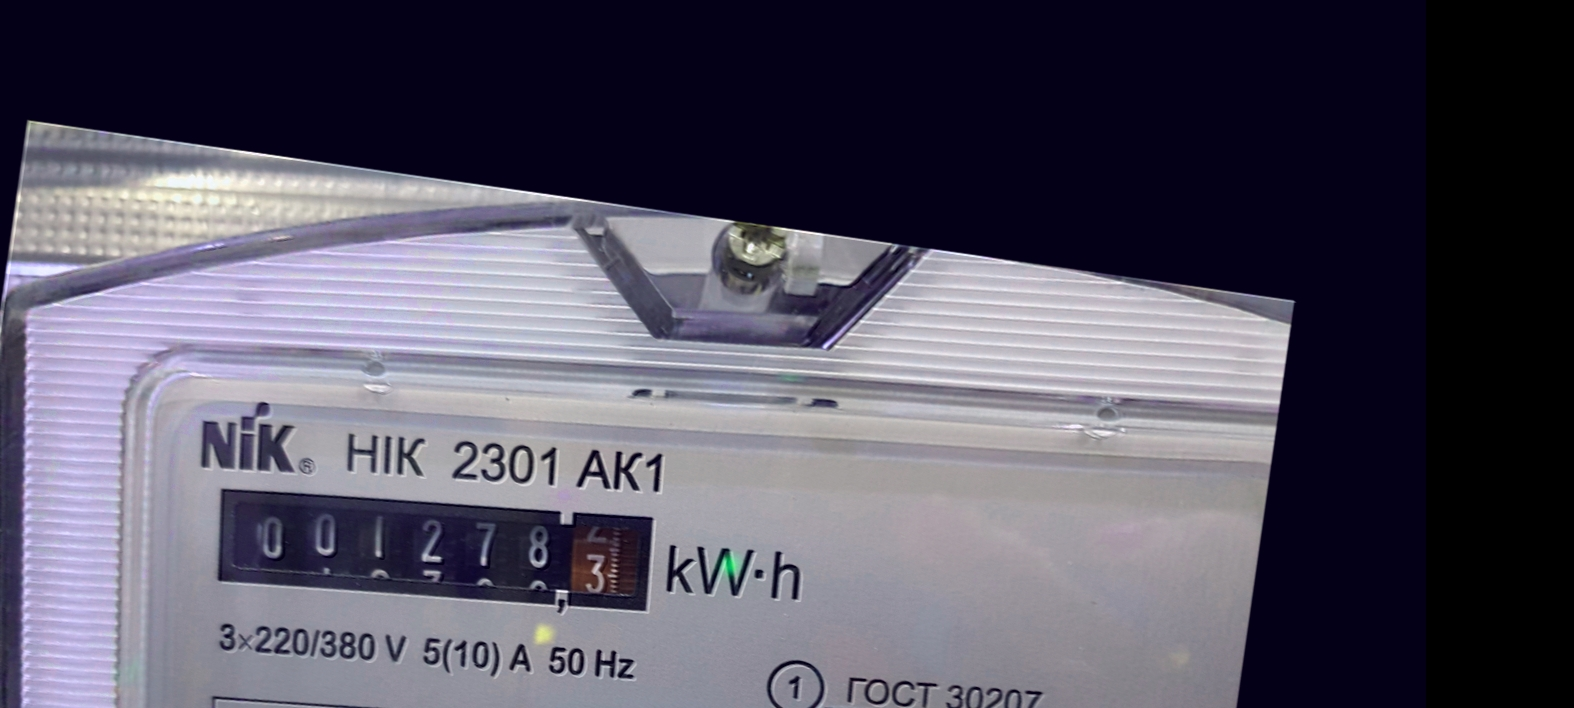0: (256, 512, 289, 563), (308, 510, 341, 560)
1: (366, 511, 391, 560)
2: (415, 517, 448, 567), (583, 524, 610, 546)
3: (578, 551, 611, 598)
7: (468, 520, 497, 569)
8: (523, 524, 554, 571)
screen: (193, 444, 677, 656)
